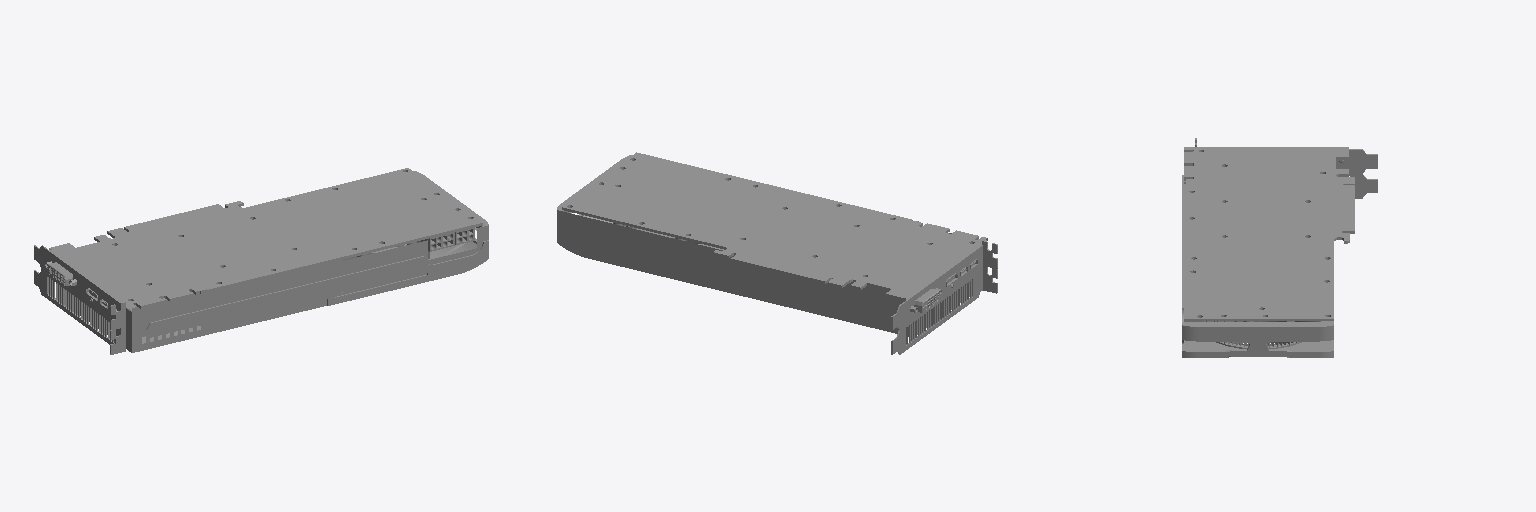
The model's file is Radeon.obj.
3 views of the same model, side by side, from view 1: azimuth 30°, elevation 25°; view 2: azimuth 150°, elevation 25°; view 3: azimuth 270°, elevation 25° (orthographic).
Visible parts, largest first — view 1: Radeon_woMat_G-__556824.002; view 2: Radeon_woMat_G-__556824.002; view 3: Radeon_woMat_G-__556824.002.
Boxes of the visible parts, x1,y1,x2,y2 form: Radeon_woMat_G-__556824.002: [34, 168, 488, 354]; Radeon_woMat_G-__556824.002: [557, 152, 997, 354]; Radeon_woMat_G-__556824.002: [1182, 138, 1377, 357].
Bounding box in the file's own units: 5.76 × 0.78 × 2.59.